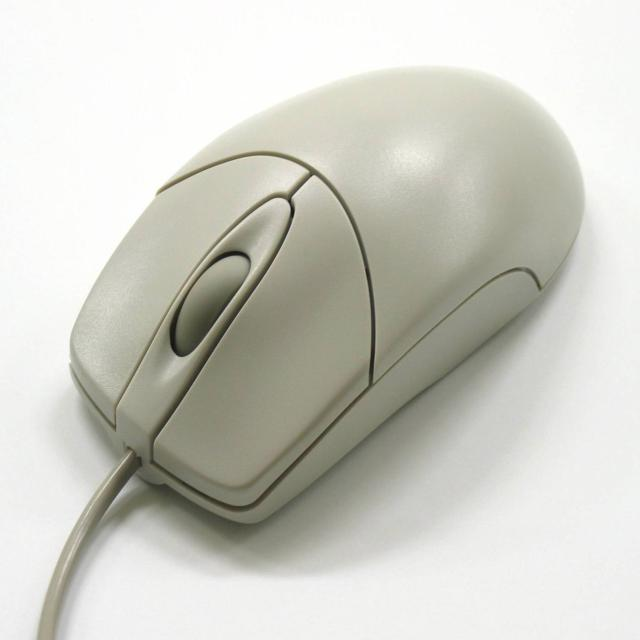mouse: (70, 53, 605, 509)
